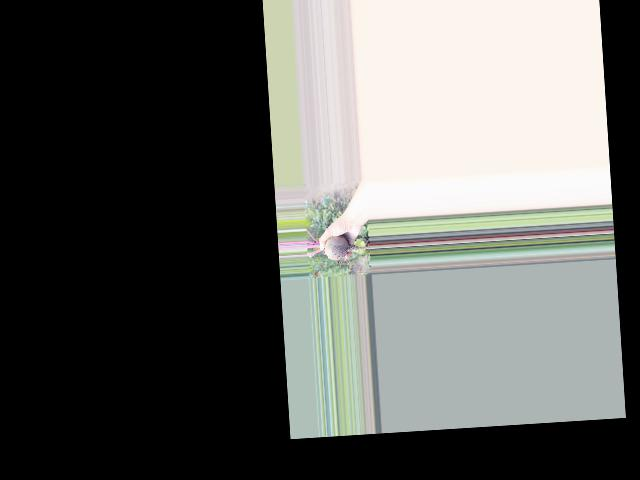beet: (305, 224, 372, 271)
